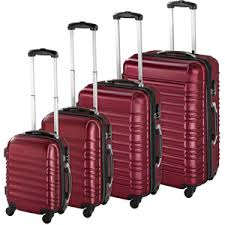suitcase: (122, 1, 221, 197), (77, 9, 164, 207), (41, 21, 115, 220), (3, 46, 72, 224)
